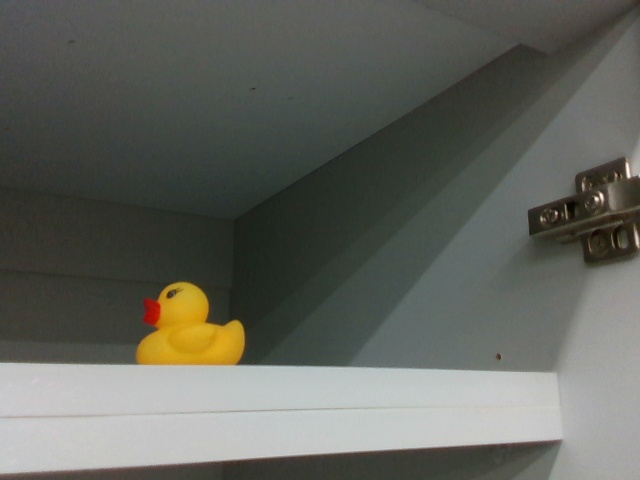duck: (135, 276, 248, 372)
